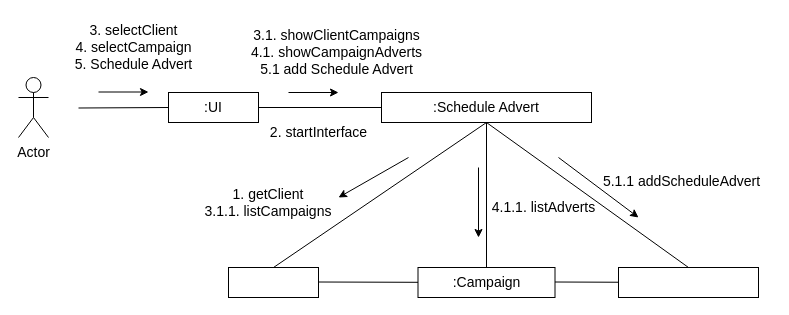
The diagram is 789 pixels wide and 315 high, and some of its shapes have lost their labels. The shapes that lost their labels are listed below. From the top down, each one's centre as x and y in pixels, then its label:
[273,282]: :Client
[688,282]: :Advert
